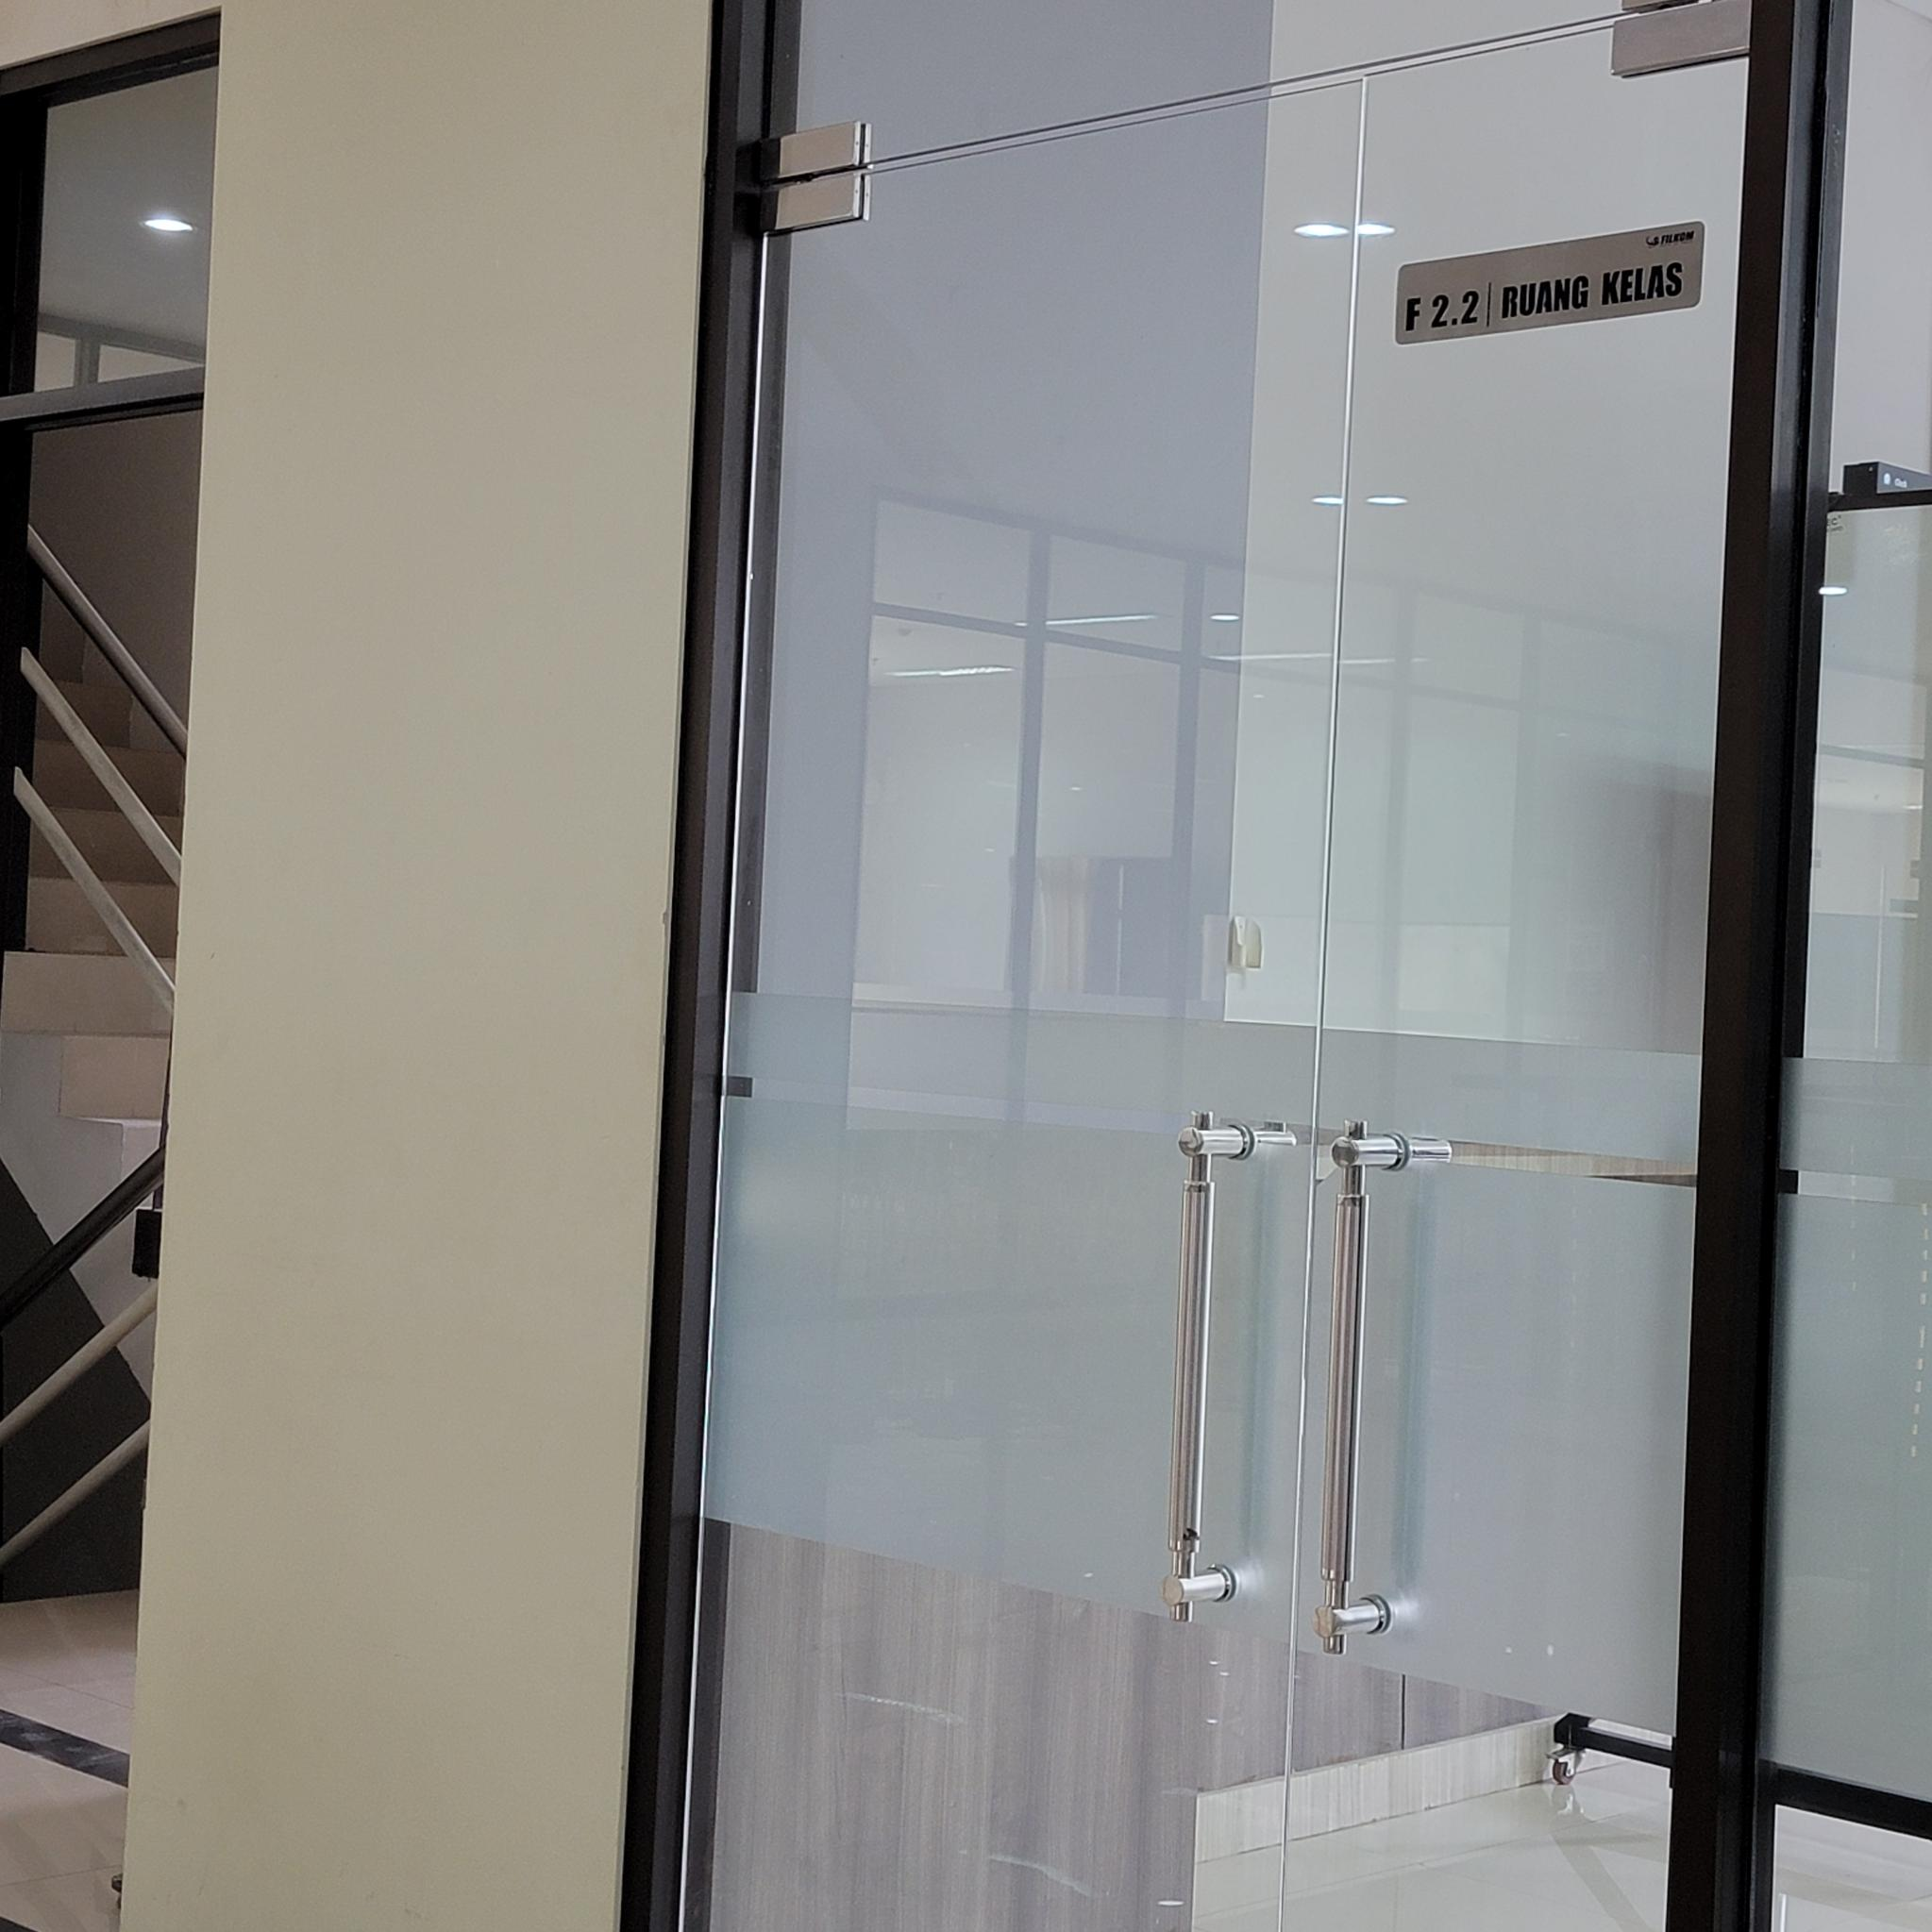plate: (1394, 223, 1707, 347)
